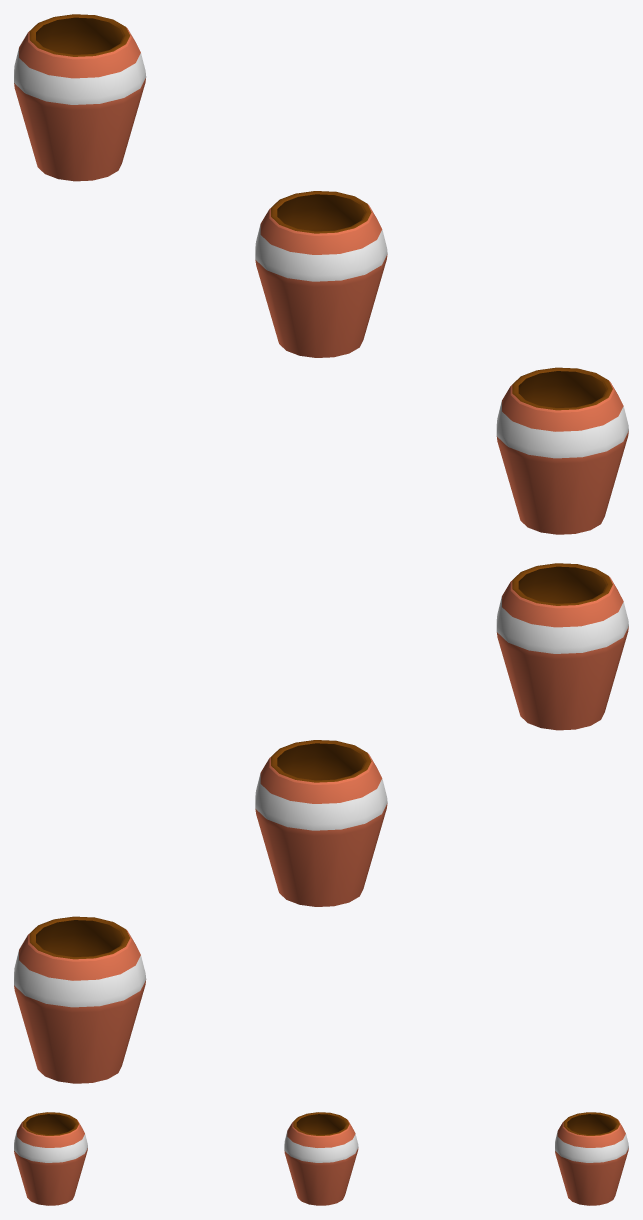
Rendered from pot hiasan .fbx.
3 renders of one model, top to bottom at view 1: azimuth 30°, elevation 25°; view 2: azimuth 150°, elevation 25°; view 3: azimuth 270°, elevation 25°, orthographic. The views are drawn at different scales.
Visible parts, largest first — view 1: Circle.002; view 2: Circle.002; view 3: Circle.002.
Part boxes in pixels (left/top/right/bottom): Circle.002: left=14, top=14, right=628, bottom=534; Circle.002: left=14, top=563, right=628, bottom=1083; Circle.002: left=14, top=1112, right=628, bottom=1205.
Bounding box in the file's own units: 255 × 272 × 2107.
